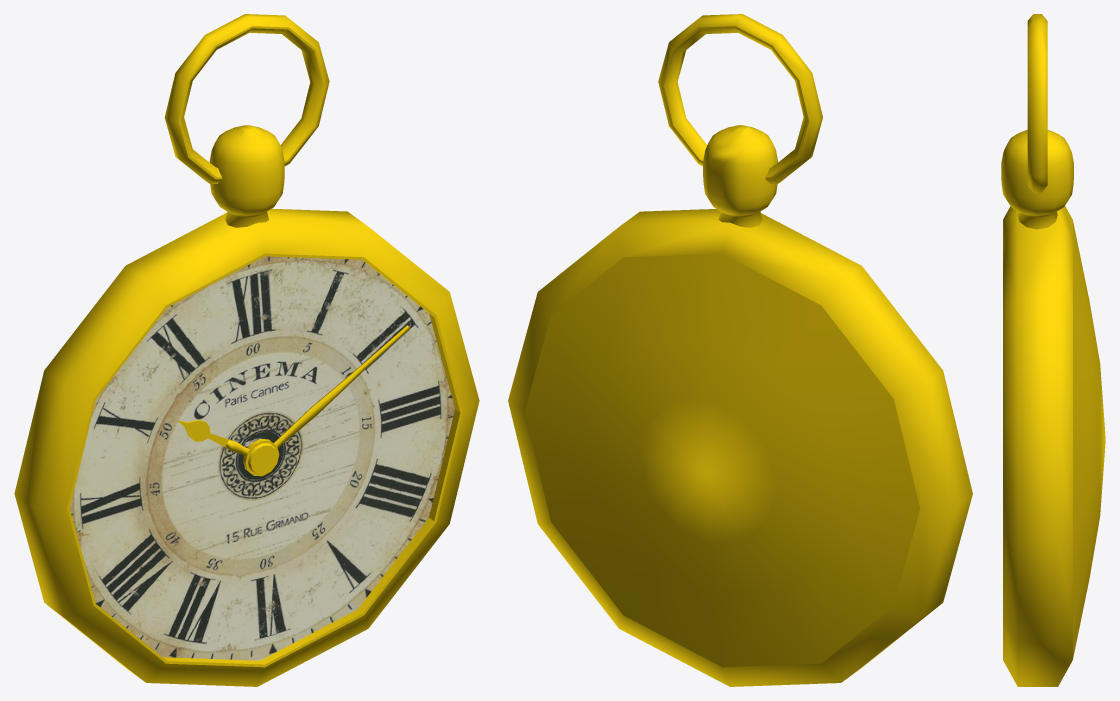
The model's file is dong-ho-qua-quyt.glb.
3 renders of one model, left to right at view 1: azimuth 30°, elevation 25°; view 2: azimuth 150°, elevation 25°; view 3: azimuth 270°, elevation 25°, orthographic. The views are drawn at different scales.
Visible parts, largest first — view 1: dong-ho-qua-quyt; view 2: dong-ho-qua-quyt; view 3: dong-ho-qua-quyt.
Part boxes in pixels (x1,y1,x2,y2): dong-ho-qua-quyt: (14, 14, 479, 686); dong-ho-qua-quyt: (508, 14, 972, 686); dong-ho-qua-quyt: (1001, 14, 1105, 686).
Bounding box in the file's own units: 0.6304 × 0.9 × 0.1328.
Materials: 2 (1 with a texture image).
